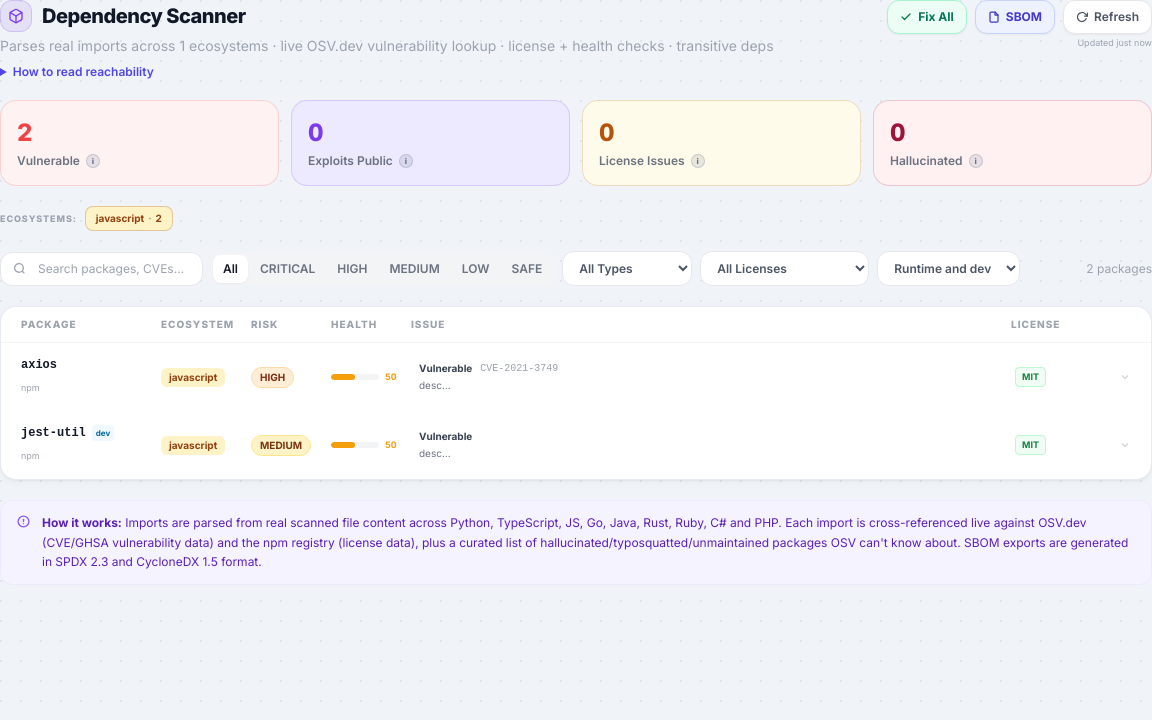
Test: Dependencies page › an expanded finding shows every advisory, the fix, and where its version comes from
Click the text "axios": click(39, 365) [21,357,57,373]
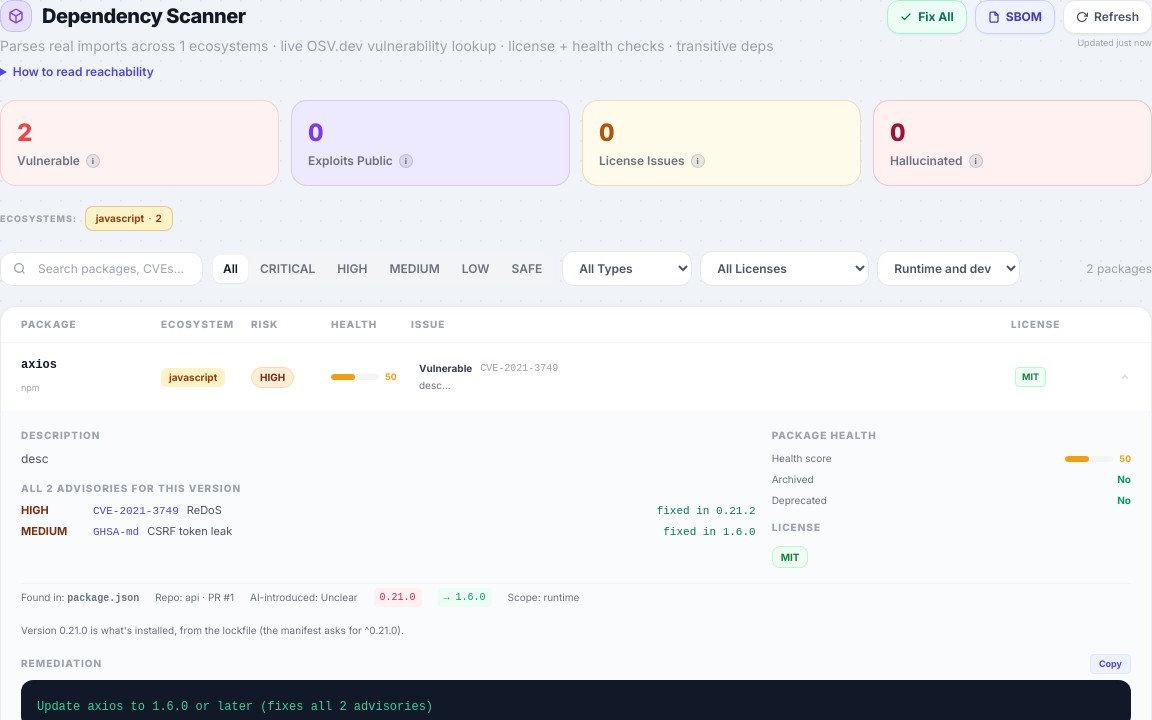
Check: the text "All 2 advisories for this version" is shown, box [21,482,241,494]
Check: the text "fixed in 1.6.0" is shown, box [663,524,756,540]
Check: the text "Version 0.21.0 is what's installed, from the lockfile (the manifest asks for ^0.21.0)." is shown, box [21,624,404,636]
